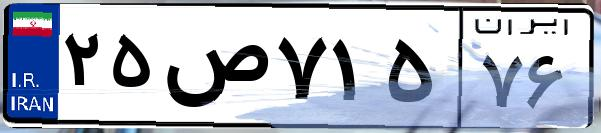1: (330, 28, 385, 110)
2: (57, 26, 110, 100)
5: (385, 28, 445, 110), (110, 28, 158, 98)
6: (525, 38, 570, 115)
7: (270, 28, 330, 110), (475, 38, 525, 113)
ص: (158, 20, 270, 120)
